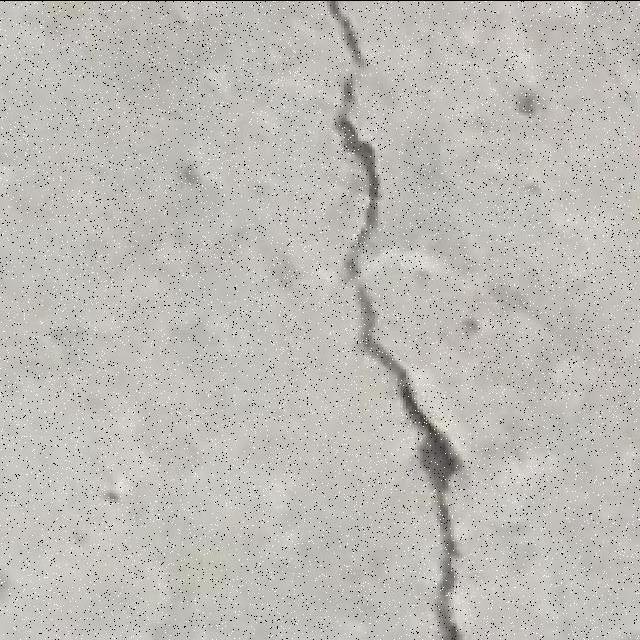Crack: (324, 2, 463, 637)
